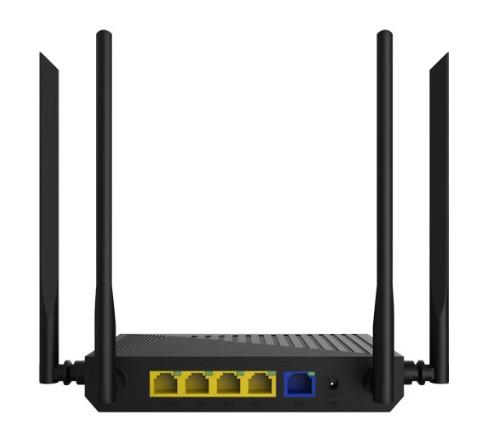Router: (39, 30, 449, 413)
